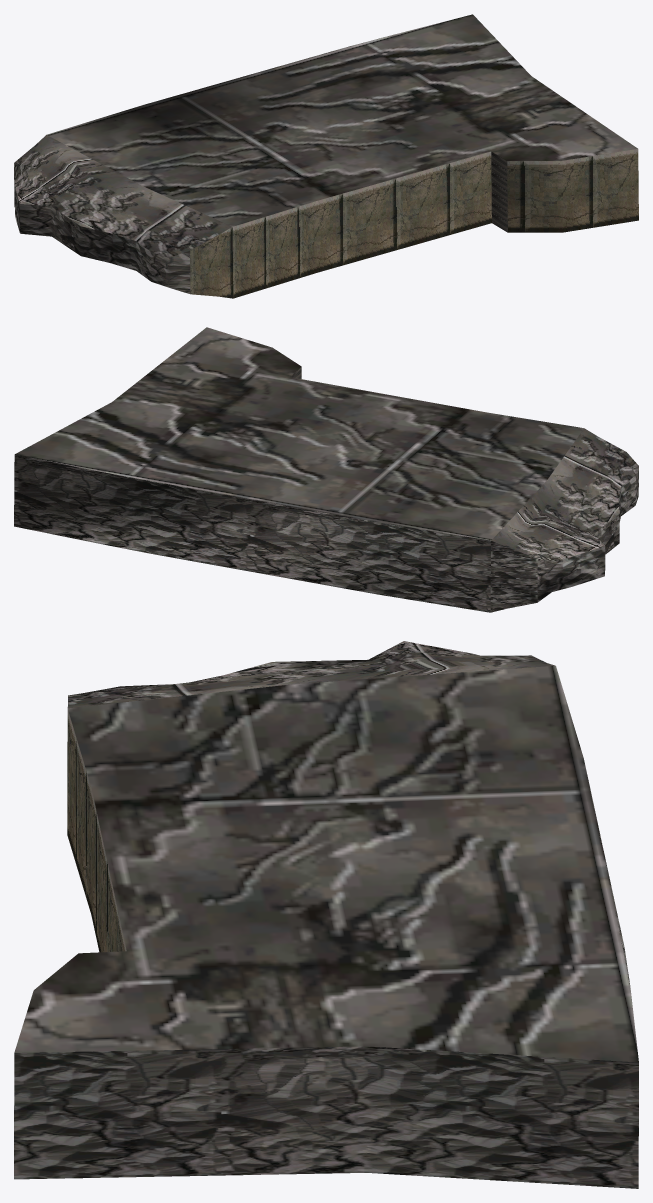
The model's file is INST_SM_DEBRIS_BLOCK_SMALLD.fbx.
3 views of the same model, one above another, from view 1: azimuth 30°, elevation 25°; view 2: azimuth 150°, elevation 25°; view 3: azimuth 270°, elevation 25° (orthographic). The views are drawn at different scales.
Parts seen in each view (by area): view 1: INST_SM_DEBRIS_BLOCK_SMALLD; view 2: INST_SM_DEBRIS_BLOCK_SMALLD; view 3: INST_SM_DEBRIS_BLOCK_SMALLD.
Boxes of the visible parts, x1,y1,x2,y2 form: INST_SM_DEBRIS_BLOCK_SMALLD: (14, 14, 638, 298); INST_SM_DEBRIS_BLOCK_SMALLD: (14, 327, 638, 612); INST_SM_DEBRIS_BLOCK_SMALLD: (14, 641, 638, 1188).
Bounding box in the file's own units: 55937 × 8151 × 33166.
5 materials, 5 textured.
